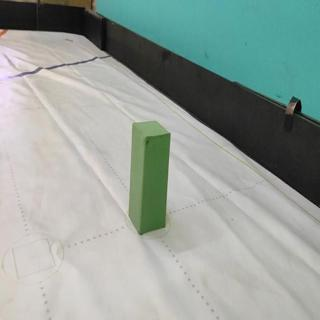greenbox: (127, 117, 173, 235)
